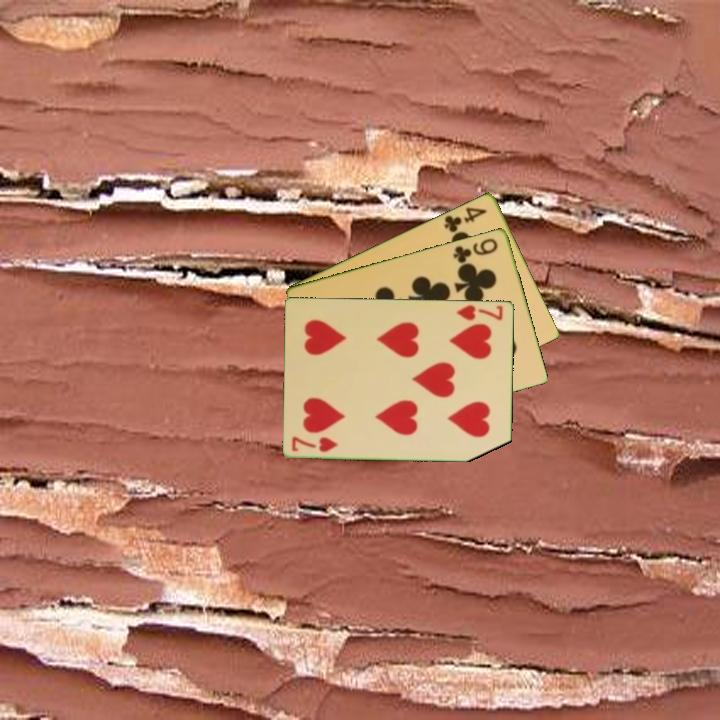4c: (440, 203, 490, 235)
7h: (453, 301, 506, 323), (289, 433, 340, 454)
9c: (450, 234, 501, 266)
